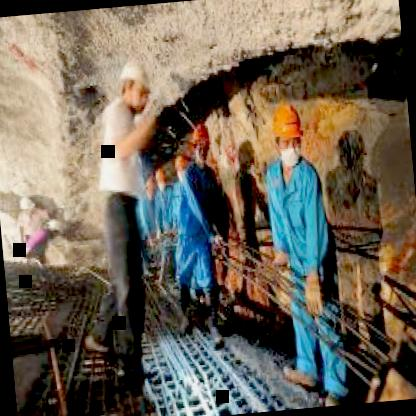helmet: (270, 100, 306, 166), (116, 54, 154, 116), (188, 121, 213, 168), (174, 151, 189, 180), (154, 162, 168, 193)
